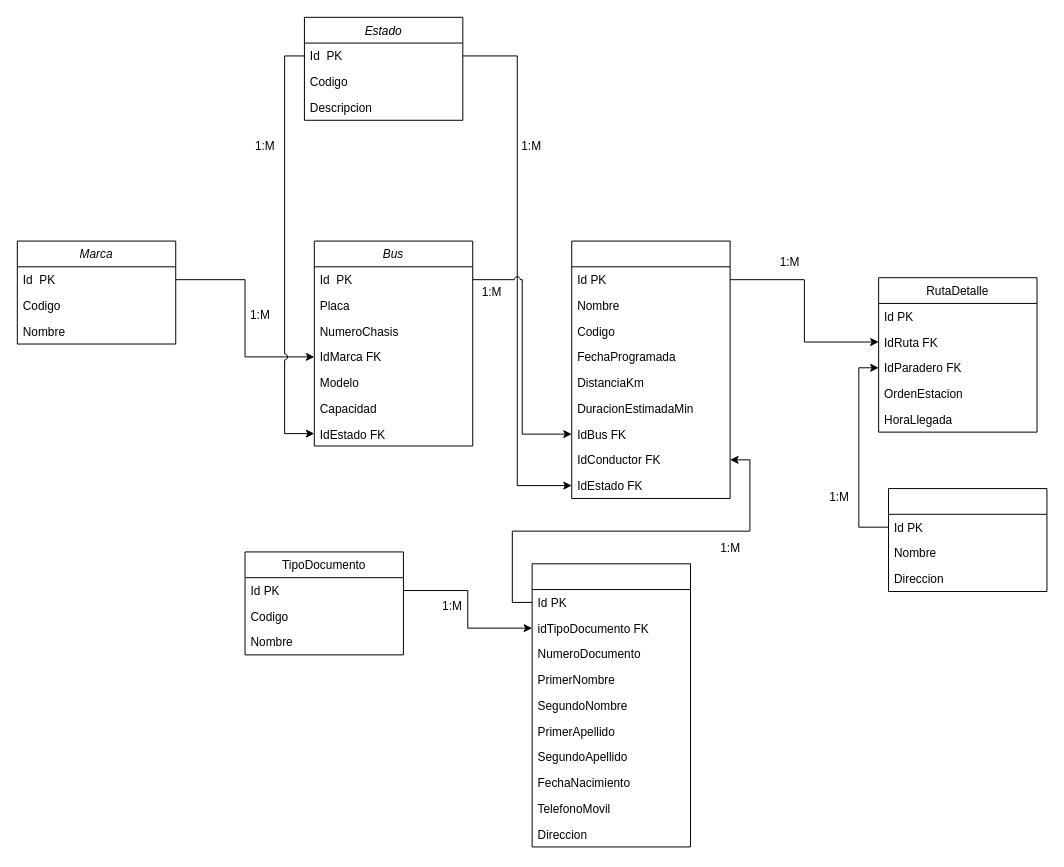
Image size: 1064x867. Some labels were removed from this diagram. The box of each missing label's shape, as (x1, y1, x2, y2) in pixels:
Conductor: (531, 563, 691, 847)
Paradero: (888, 488, 1047, 592)
Ruta: (571, 240, 730, 498)
